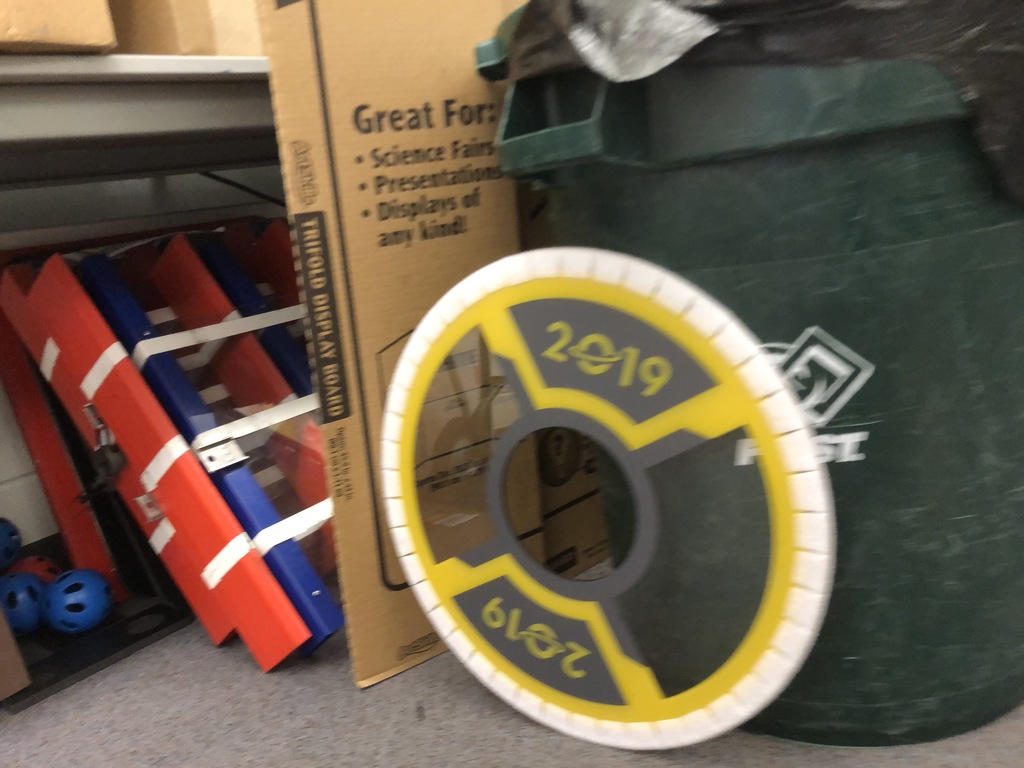hatch_panel: (350, 224, 845, 768)
